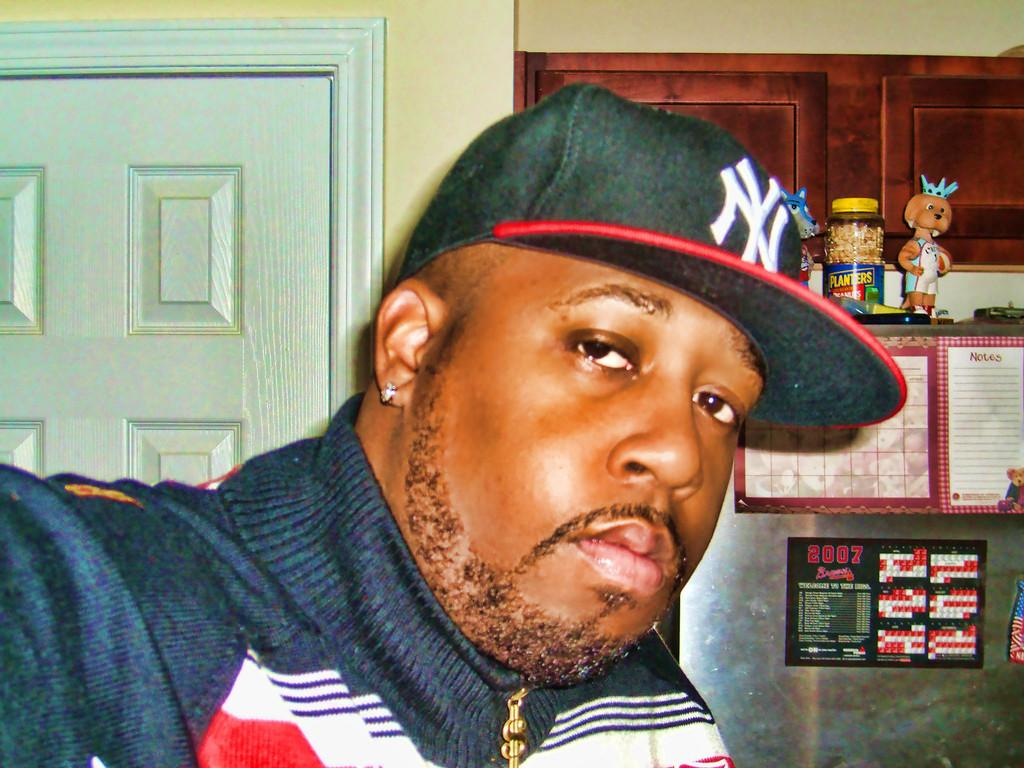Hat: (396, 84, 906, 432)
